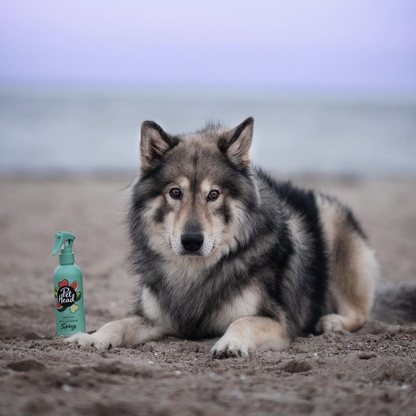husky: (59, 109, 384, 360)
